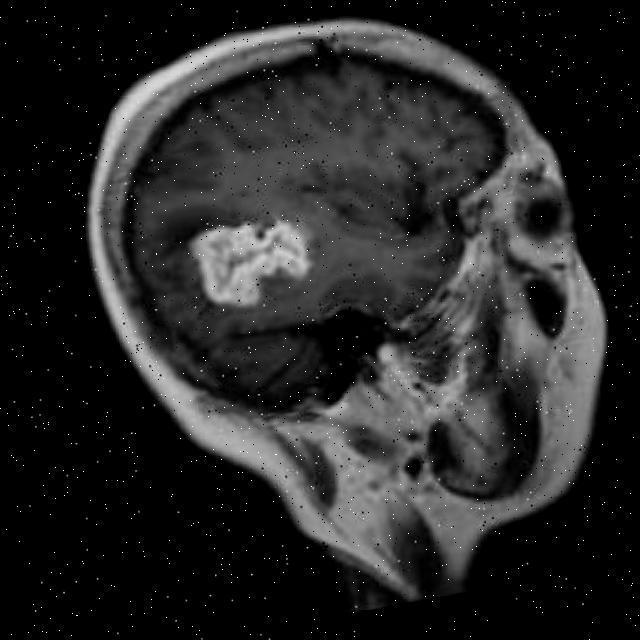CN: (60, 172, 369, 418)
